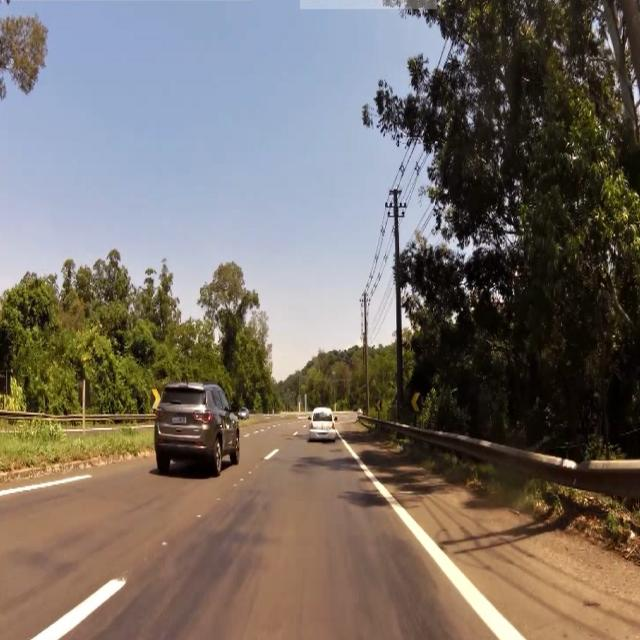Del: (146, 384, 163, 418), (409, 390, 424, 412), (374, 399, 384, 414)
